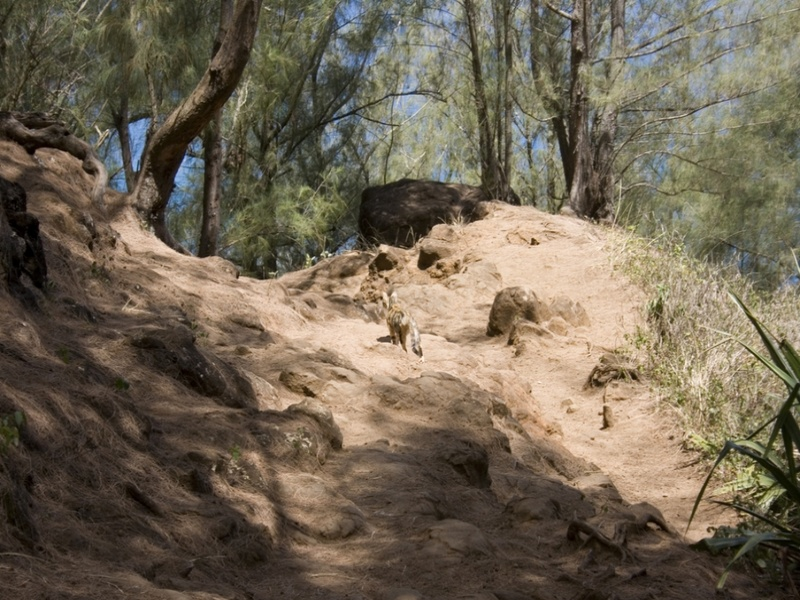cat: (371, 294, 428, 358)
